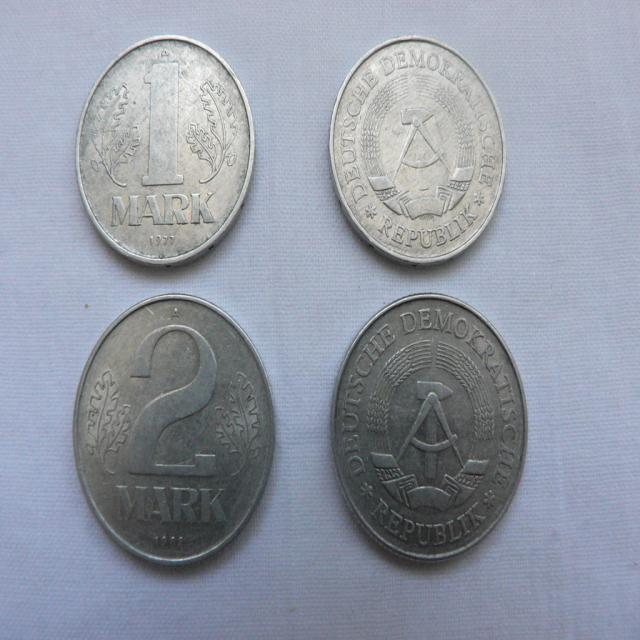Coin: (75, 289, 278, 571), (332, 290, 530, 564), (75, 31, 258, 267), (327, 34, 507, 266)
